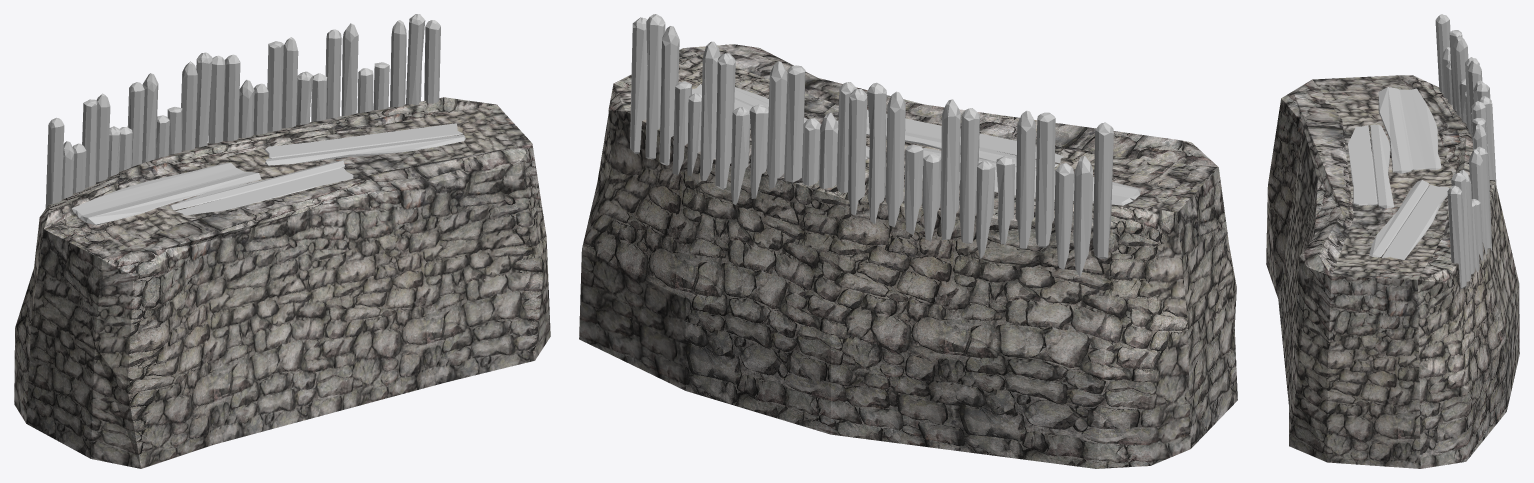
The model's file is StoneWall_2_LOD2.fbx.
3 renders of one model, left to right at view 1: azimuth 30°, elevation 25°; view 2: azimuth 150°, elevation 25°; view 3: azimuth 270°, elevation 25°, orthographic. The views are drawn at different scales.
Parts seen in each view (by area): view 1: Stone, Wood; view 2: Stone, Wood; view 3: Stone, Wood.
Part boxes in pixels (bbox=[...]): Stone: bbox=[14, 97, 550, 468]; Wood: bbox=[45, 14, 465, 225]; Stone: bbox=[579, 44, 1237, 468]; Wood: bbox=[630, 14, 1140, 276]; Stone: bbox=[1266, 75, 1519, 468]; Wood: bbox=[1348, 14, 1496, 288].
Bounding box in the file's own units: 1473 × 709 × 809.
